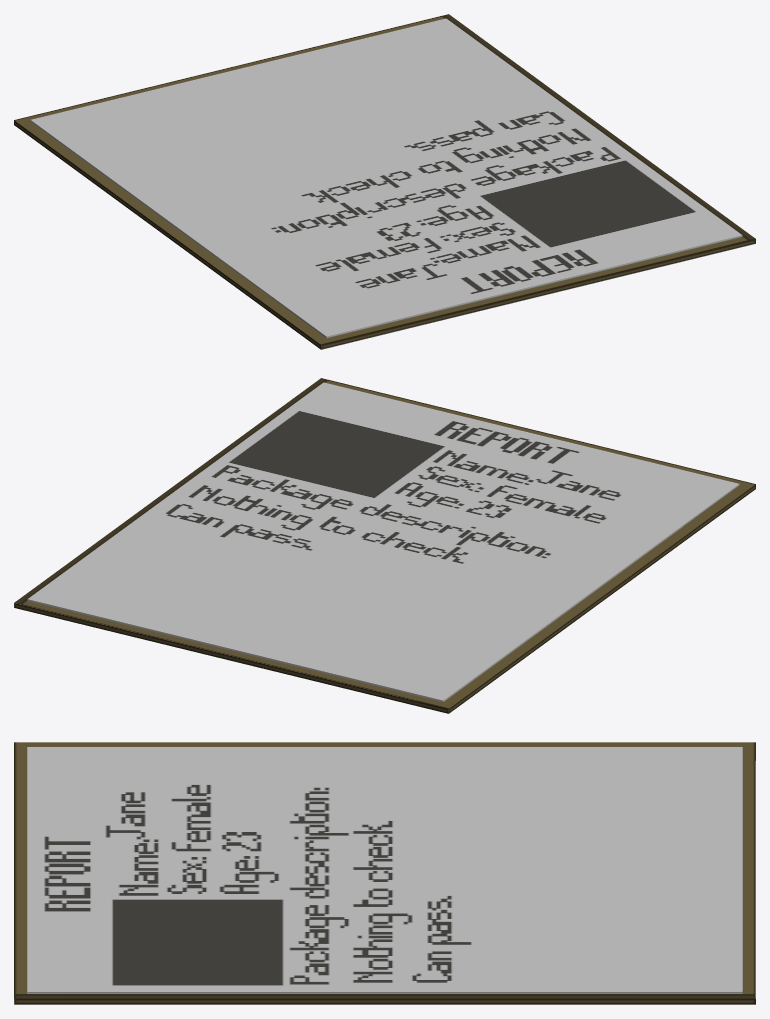
The model's file is note_full_knife.fbx.
The picture shows the model from 3 angles, top to bottom: view 1: azimuth 30°, elevation 25°; view 2: azimuth 150°, elevation 25°; view 3: azimuth 270°, elevation 25°; orthographic projection. The views are drawn at different scales.
Parts seen in each view (by area): view 1: cube, cube_1; view 2: cube, cube_1; view 3: cube, cube_1.
Boxes of the visible parts, x1,y1,x2,y2 form: cube: (30, 18, 742, 338); cube_1: (14, 14, 755, 349); cube: (27, 382, 739, 702); cube_1: (14, 378, 755, 713); cube: (27, 747, 742, 993); cube_1: (14, 742, 755, 1004).
Bounding box in the file's own units: 1731 × 25 × 2119.
Materials: 1 (1 with a texture image).
